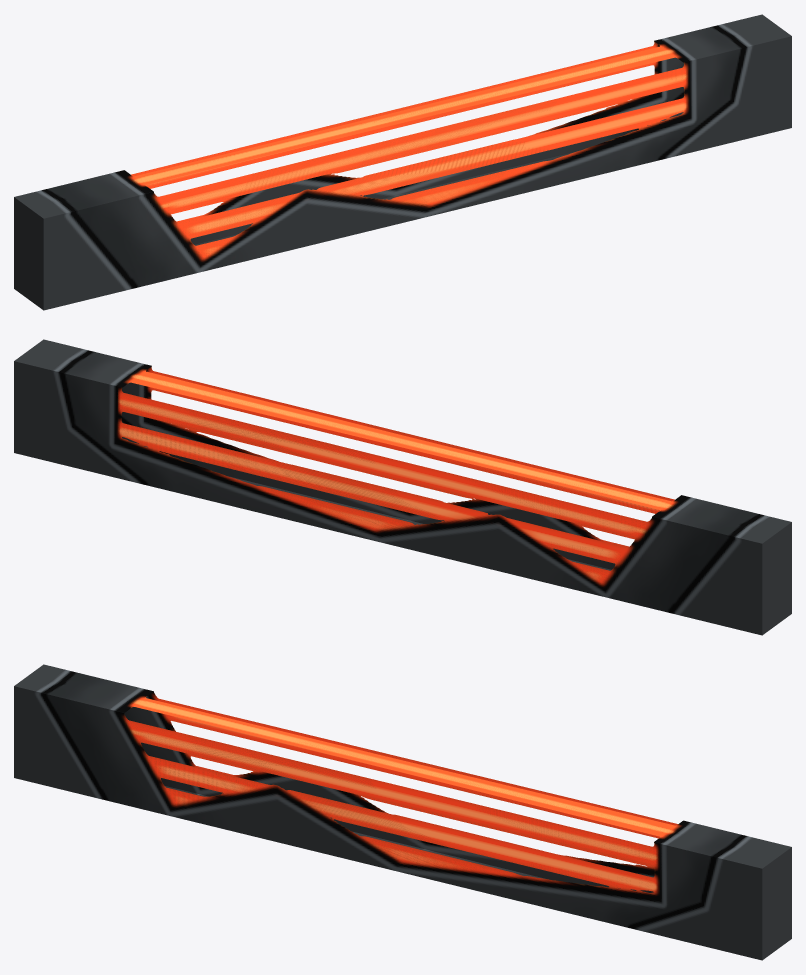
File: urban_border.glb
3 renders of one model, top to bottom at view 1: azimuth 30°, elevation 25°; view 2: azimuth 150°, elevation 25°; view 3: azimuth 330°, elevation 25°, orthographic.
Visible parts, largest first — view 1: basic_Border_glb_Cube.002; view 2: basic_Border_glb_Cube.002; view 3: basic_Border_glb_Cube.002.
Boxes of the visible parts, bbox=[...] form: basic_Border_glb_Cube.002: bbox=[14, 14, 791, 310]; basic_Border_glb_Cube.002: bbox=[14, 339, 791, 635]; basic_Border_glb_Cube.002: bbox=[14, 664, 791, 960].
Bounding box in the file's own units: 4.03 × 0.4726 × 0.2771.
2 materials, 2 textured.
